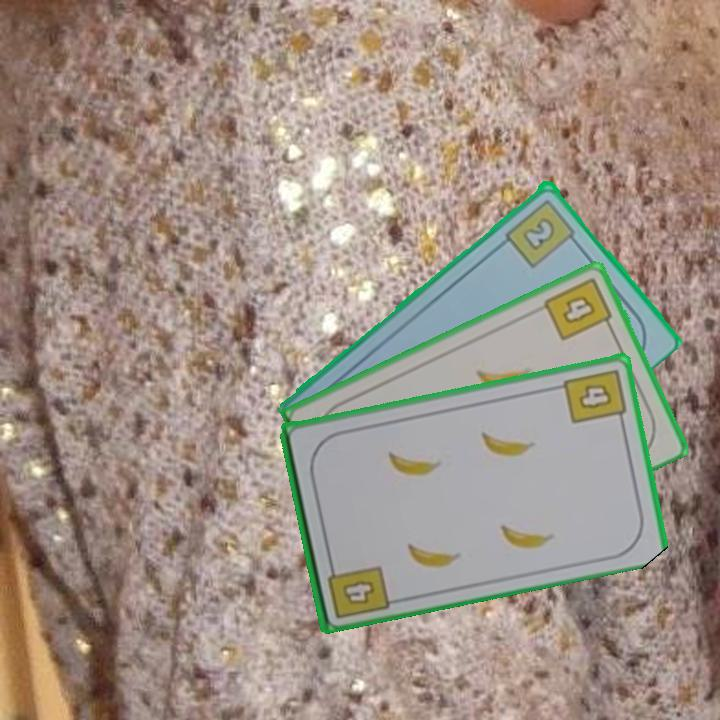2b: (502, 195, 582, 270)
4b: (540, 273, 617, 344), (323, 556, 392, 621), (560, 365, 629, 427)
